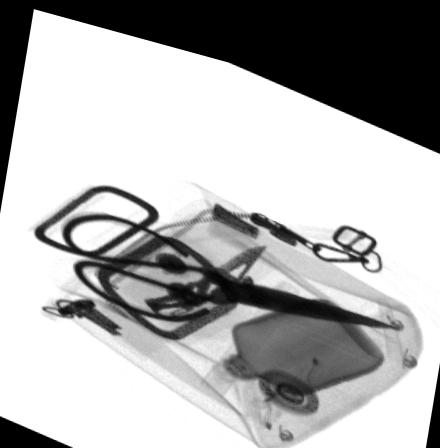Knife: (144, 228, 267, 309)
Scissors: (58, 207, 398, 311)
